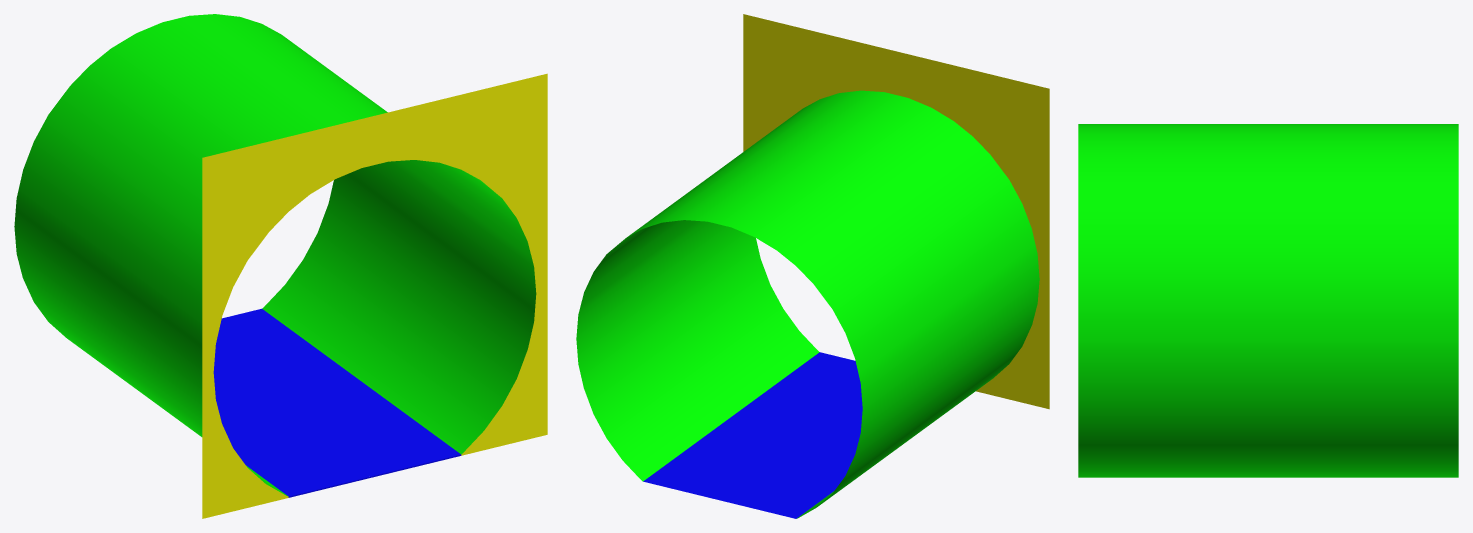
File: Tunnel_s.fbx
3 views of the same model, side by side, from view 1: azimuth 30°, elevation 25°; view 2: azimuth 150°, elevation 25°; view 3: azimuth 270°, elevation 25° (orthographic). The views are drawn at different scales.
Parts seen in each view (by area): view 1: Tunnel_s; view 2: Tunnel_s; view 3: Tunnel_s.
Boxes of the visible parts, x1,y1,x2,y2 form: Tunnel_s: [14, 14, 547, 518]; Tunnel_s: [576, 14, 1049, 518]; Tunnel_s: [1078, 124, 1458, 477].
Bounding box in the file's own units: 197 × 197 × 197.
